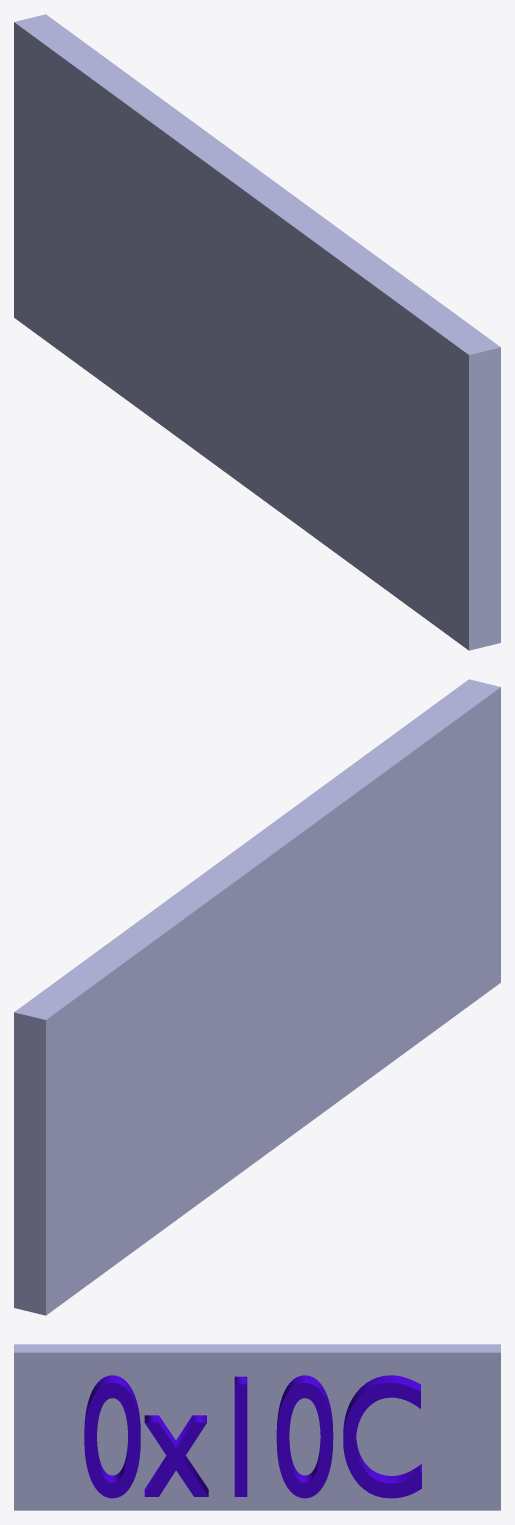
3 views of the same model, one above another, from view 1: azimuth 30°, elevation 25°; view 2: azimuth 150°, elevation 25°; view 3: azimuth 270°, elevation 25° (orthographic). The views are drawn at different scales.
Parts seen in each view (by area): view 1: Cube; view 2: Cube; view 3: Cube, Text.
Part boxes in pixels (<box>): Cube: <box>14,14,500,650</box>; Cube: <box>14,679,500,1315</box>; Cube: <box>14,1344,500,1510</box>; Text: <box>84,1375,421,1498</box>.
Size of the model in its own units: 2.65 by 12.33 by 34.39.
